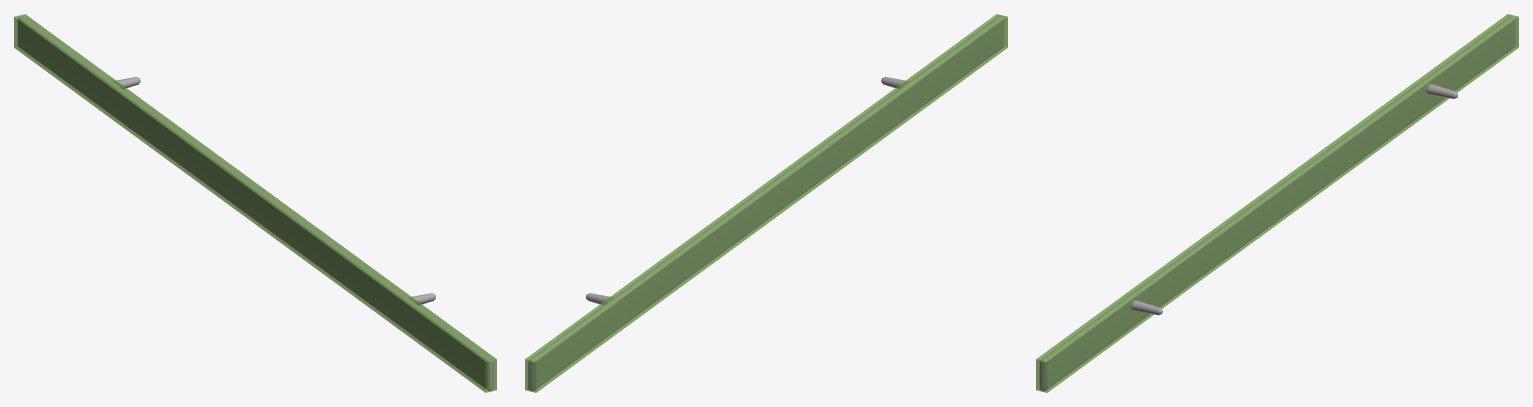
File: M_md_ShutterMetal_end_2m.fbx
The picture shows the model from 3 angles, left to right: view 1: azimuth 30°, elevation 25°; view 2: azimuth 150°, elevation 25°; view 3: azimuth 330°, elevation 25°; orthographic projection.
Parts seen in each view (by area): view 1: M_md_ShutterMetal_end_2m_col_01, M_md_ShutterMetal_end_2m_LOD0; view 2: M_md_ShutterMetal_end_2m_col_01, M_md_ShutterMetal_end_2m_LOD0; view 3: M_md_ShutterMetal_end_2m_col_01, M_md_ShutterMetal_end_2m_LOD0.
Part boxes in pixels (x1,y1,x2,y2): M_md_ShutterMetal_end_2m_col_01: (14,14,496,392); M_md_ShutterMetal_end_2m_LOD0: (17,16,493,390); M_md_ShutterMetal_end_2m_col_01: (525,14,1007,392); M_md_ShutterMetal_end_2m_LOD0: (528,16,1004,390); M_md_ShutterMetal_end_2m_col_01: (1036,14,1518,392); M_md_ShutterMetal_end_2m_LOD0: (1039,16,1515,390).
Size of what is drawn, in the model's own units: 9.32 by 7.3 by 201.
